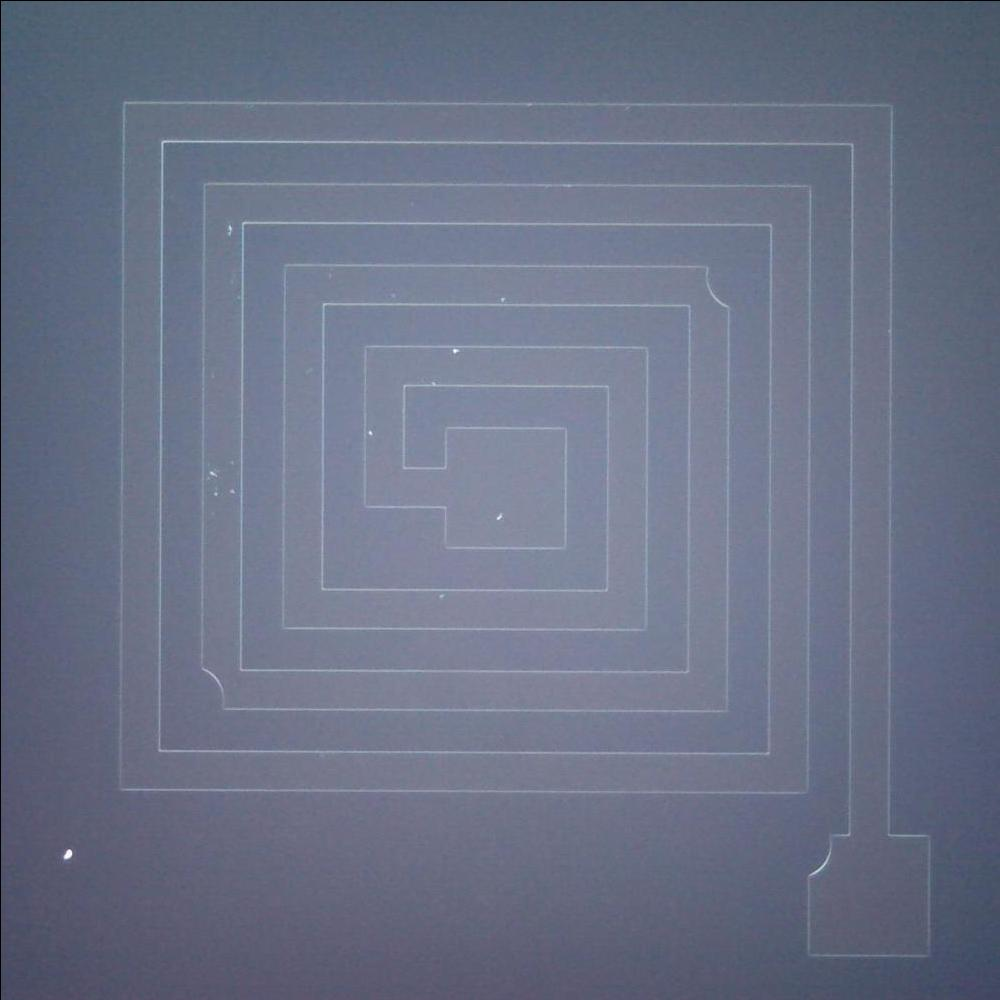curve circuit: (694, 253, 740, 317), (796, 824, 842, 885), (190, 660, 234, 723)
dot: (358, 419, 378, 443)
spot: (51, 842, 81, 864)
